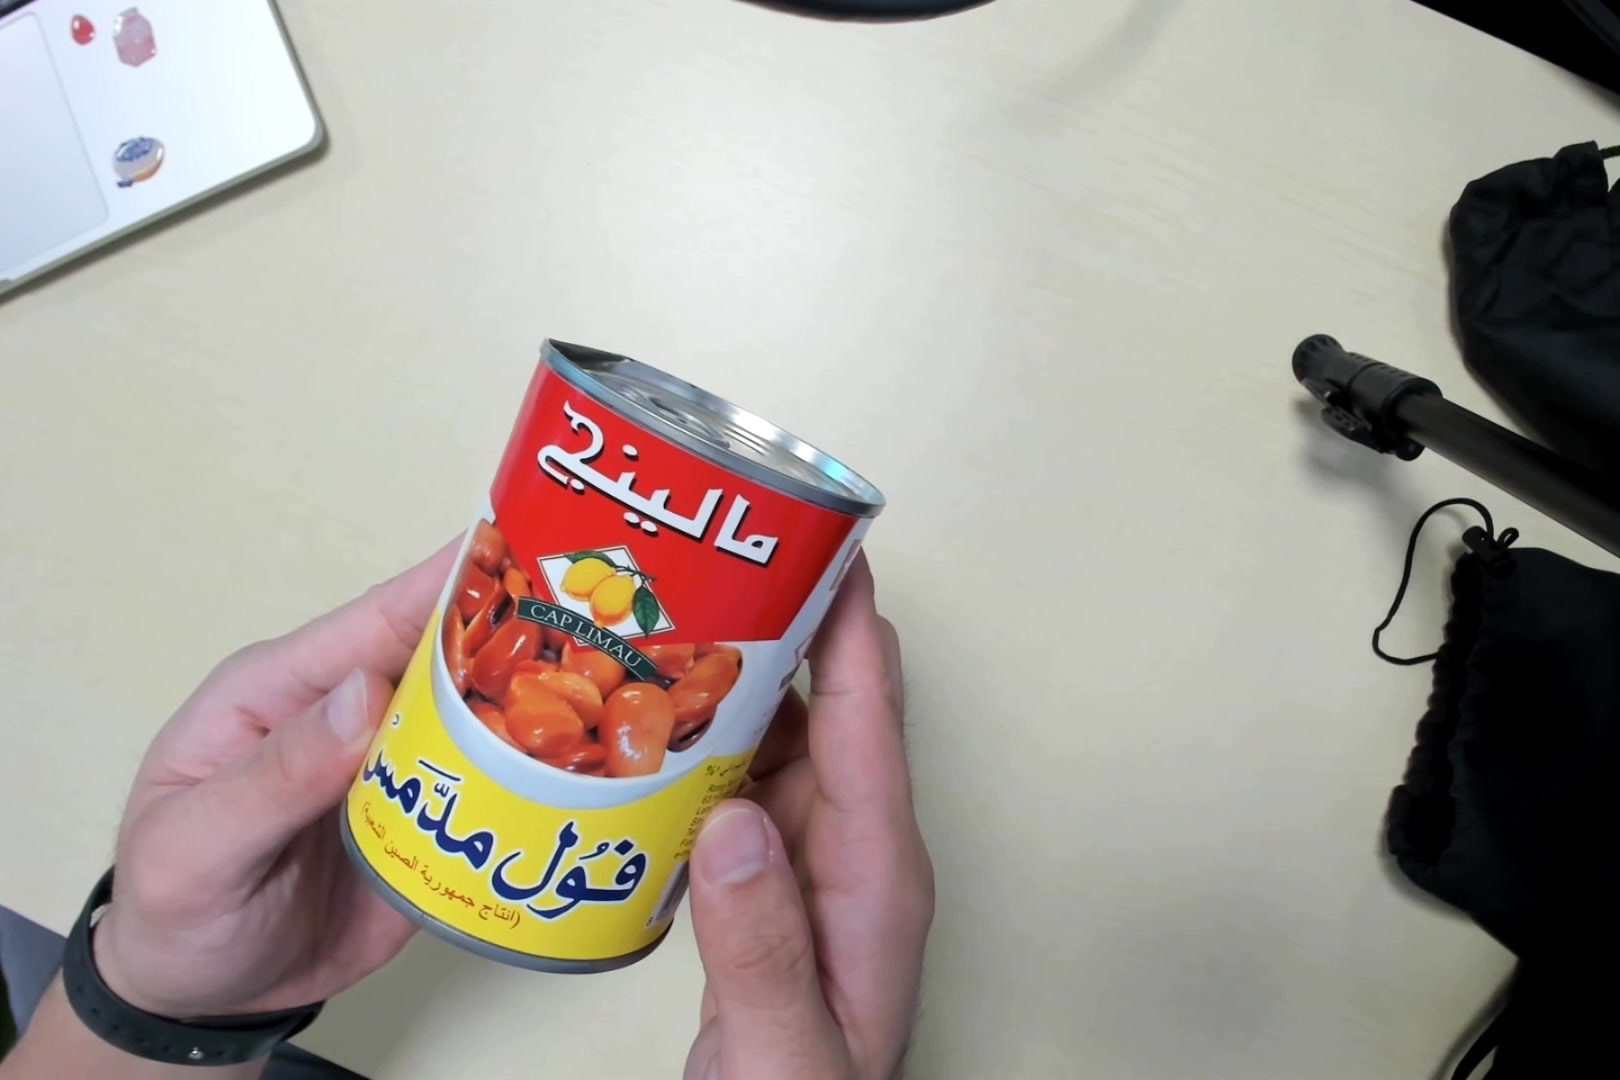OtherCannedBeansPeasPeanuts_400-499g_Halal_NonHealthy: (340, 337, 888, 961)
